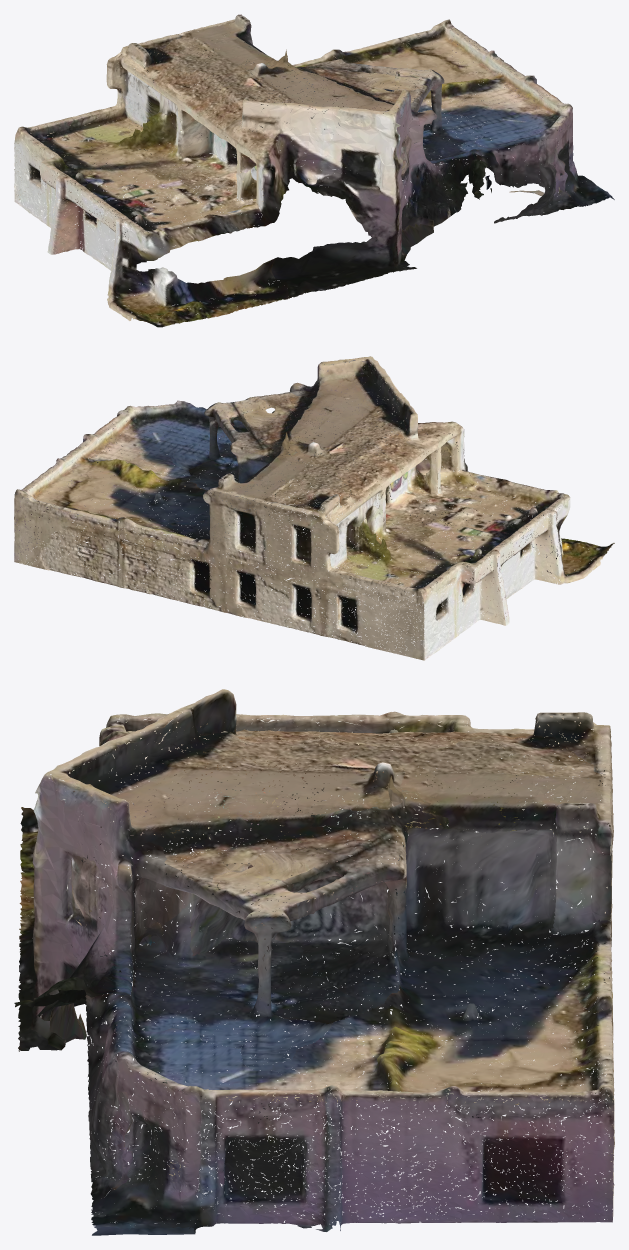
Rendered from partially-demolished-building.glb.
3 renders of one model, top to bottom at view 1: azimuth 30°, elevation 25°; view 2: azimuth 150°, elevation 25°; view 3: azimuth 270°, elevation 25°, orthographic. The views are drawn at different scales.
Parts seen in each view (by area): view 1: Object_10, Object_8, Object_4, Object_7, Object_5, Object_9, Object_6, Object_3, Object_2; view 2: Object_3, Object_4, Object_8, Object_7, Object_6, Object_5, Object_2, Object_9, Object_10; view 3: Object_7, Object_5, Object_2, Object_8, Object_6, Object_3, Object_10, Object_9, Object_4.
Boxes of the visible parts, x1=… form: Object_10: x1=19, y1=23, x2=544, y2=327; Object_8: x1=35, y1=14, x2=410, y2=229; Object_4: x1=14, y1=30, x2=535, y2=278; Object_7: x1=231, y1=31, x2=583, y2=223; Object_5: x1=30, y1=28, x2=573, y2=296; Object_9: x1=14, y1=20, x2=614, y2=327; Object_6: x1=14, y1=14, x2=608, y2=252; Object_3: x1=111, y1=29, x2=578, y2=187; Object_2: x1=14, y1=19, x2=566, y2=253; Object_3: x1=24, y1=360, x2=411, y2=639; Object_4: x1=14, y1=404, x2=570, y2=660; Object_8: x1=198, y1=356, x2=507, y2=646; Object_7: x1=29, y1=382, x2=355, y2=611; Object_6: x1=14, y1=387, x2=542, y2=658; Object_5: x1=14, y1=357, x2=565, y2=642; Object_2: x1=14, y1=423, x2=570, y2=654; Object_9: x1=20, y1=362, x2=608, y2=655; Object_10: x1=118, y1=360, x2=613, y2=628; Object_7: x1=55, y1=776, x2=614, y2=1206; Object_5: x1=63, y1=711, x2=614, y2=1215; Object_2: x1=112, y1=712, x2=614, y2=1225; Object_8: x1=38, y1=689, x2=612, y2=982; Object_6: x1=88, y1=719, x2=614, y2=1233; Object_3: x1=87, y1=732, x2=614, y2=1223; Object_10: x1=14, y1=705, x2=612, y2=1179; Object_9: x1=19, y1=693, x2=613, y2=1235; Object_4: x1=99, y1=711, x2=614, y2=1227.
Size of the model in its own units: 28.41 by 8.53 by 17.44.
Materials: 1 (1 with a texture image).
